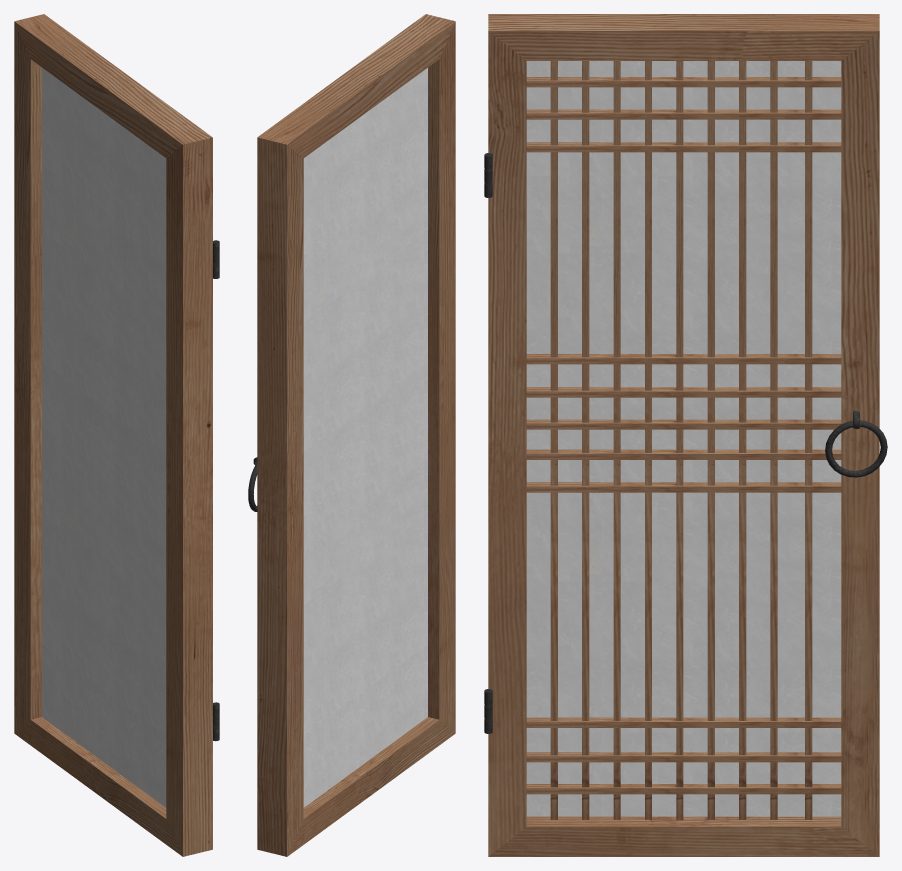
File: SM_Yeonkyung_W_Haenggak_Win_B_001.fbx
The picture shows the model from 3 angles, left to right: view 1: azimuth 30°, elevation 25°; view 2: azimuth 150°, elevation 25°; view 3: azimuth 270°, elevation 25°; orthographic projection. The views are drawn at different scales.
Parts seen in each view (by area): view 1: SM_Yeonkyung_W_Haenggak_Win_B_001; view 2: SM_Yeonkyung_W_Haenggak_Win_B_001; view 3: SM_Yeonkyung_W_Haenggak_Win_B_001.
Part boxes in pixels (bbox=[...]): SM_Yeonkyung_W_Haenggak_Win_B_001: bbox=[14, 14, 219, 856]; SM_Yeonkyung_W_Haenggak_Win_B_001: bbox=[248, 14, 455, 856]; SM_Yeonkyung_W_Haenggak_Win_B_001: bbox=[484, 14, 887, 856].
Size of the model in its own units: 8.11 by 130 by 57.55.
